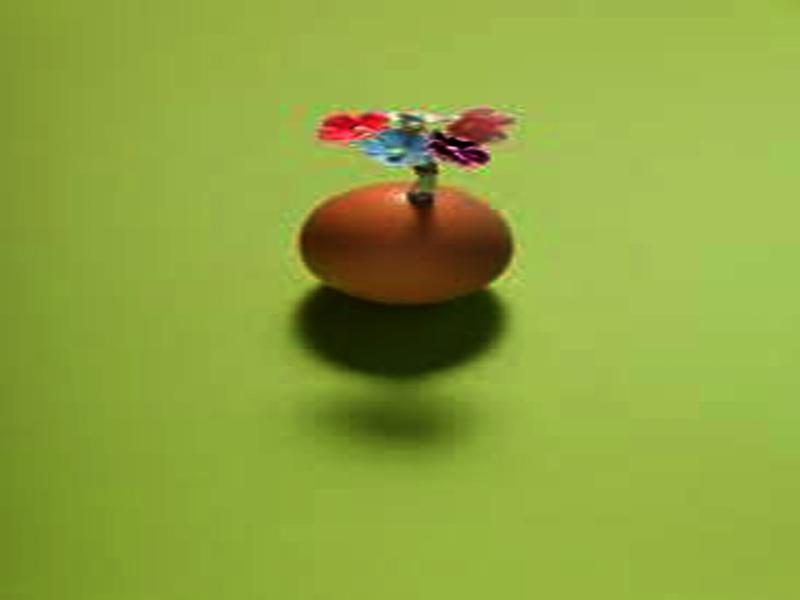Eggs: (302, 183, 511, 305)
